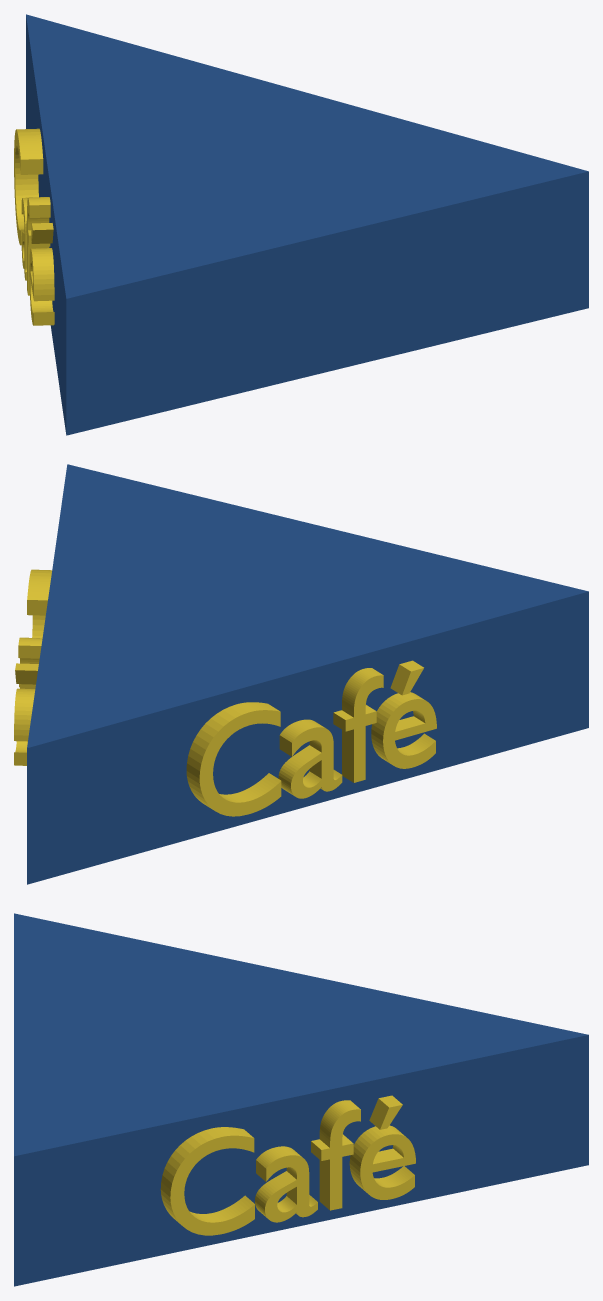
Rendered from Café.fbx.
3 renders of one model, top to bottom at view 1: azimuth 30°, elevation 25°; view 2: azimuth 150°, elevation 25°; view 3: azimuth 270°, elevation 25°, orthographic. The views are drawn at different scales.
Parts seen in each view (by area): view 1: Cube, Text.001; view 2: Cube, Text.001, Text; view 3: Cube, Text.
Part boxes in pixels (<box>): Cube: <box>26,14,588,435</box>; Text.001: <box>14,128,54,325</box>; Cube: <box>27,464,588,884</box>; Text.001: <box>186,660,436,816</box>; Text: <box>14,569,52,765</box>; Cube: <box>14,913,588,1286</box>; Text: <box>160,1095,415,1235</box>.
Size of the model in its own units: 63.36 by 15.84 by 63.36.
